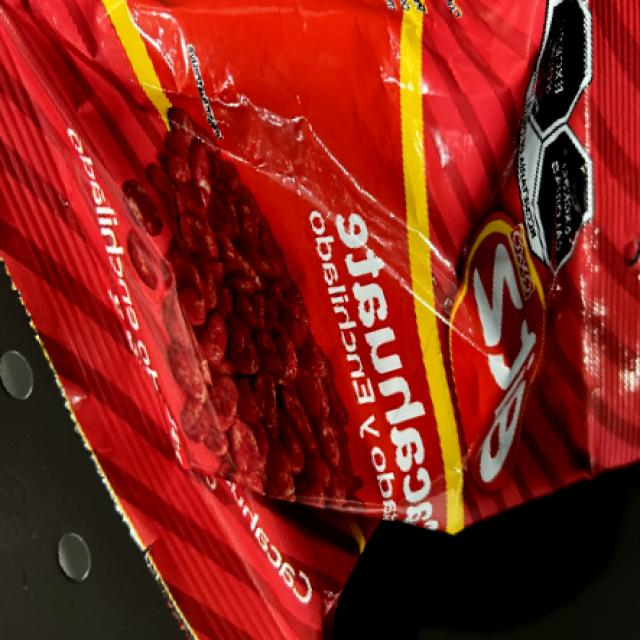bitzEnchilado90: (31, 10, 633, 505)
